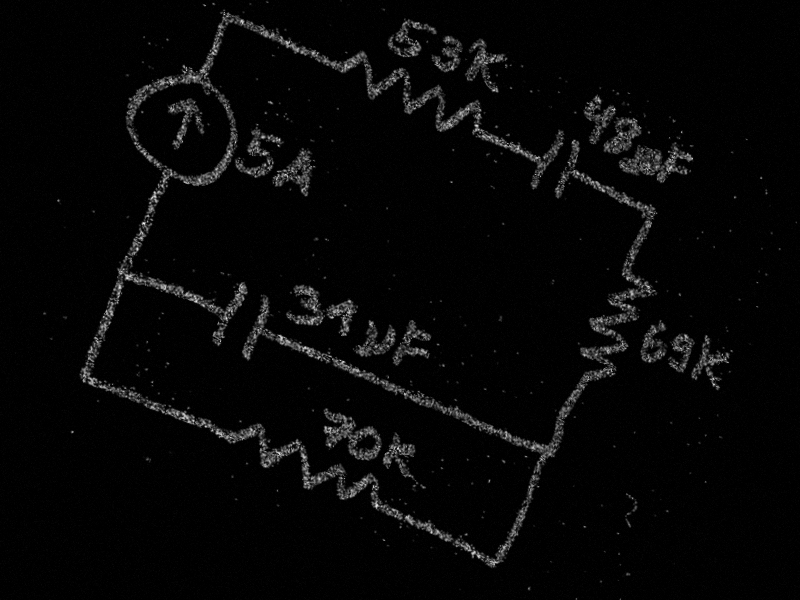0: (343, 421, 388, 467)
1: (318, 289, 364, 342)
3: (277, 278, 334, 334), (427, 30, 468, 78)
4: (570, 89, 620, 150)
5: (231, 121, 287, 185), (383, 12, 440, 67)
6: (632, 315, 678, 371)
7: (308, 403, 360, 458)
8: (600, 112, 645, 162)
9: (661, 328, 701, 378)
A: (270, 141, 323, 200)
F: (389, 317, 440, 379), (655, 141, 698, 194)
k: (456, 34, 515, 98), (684, 330, 738, 396), (378, 429, 424, 481)
u: (352, 314, 401, 366), (625, 142, 665, 184)
